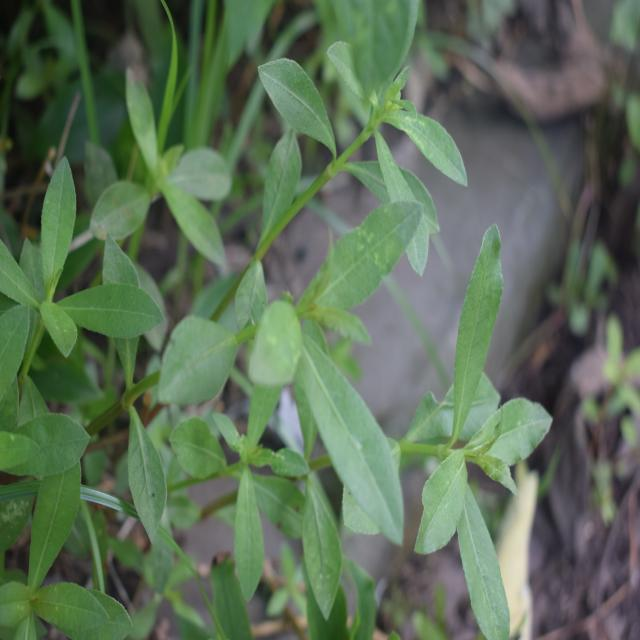Alligatorweed: (213, 213, 429, 543), (402, 226, 561, 639), (246, 57, 471, 261), (0, 152, 156, 413), (98, 99, 246, 313)
